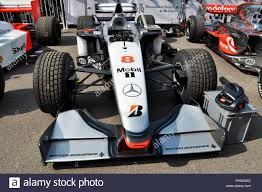FormulaOneCar: (33, 4, 225, 157)
